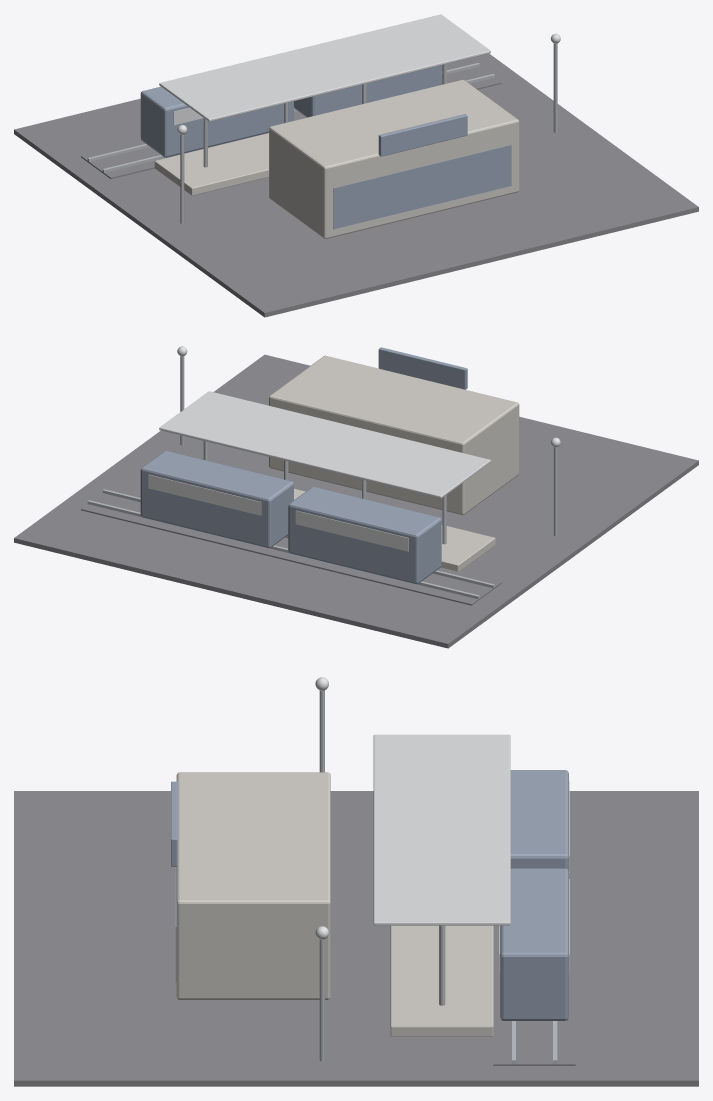
The model's file is transport.glb.
3 views of the same model, one above another, from view 1: azimuth 30°, elevation 25°; view 2: azimuth 150°, elevation 25°; view 3: azimuth 270°, elevation 25° (orthographic). The views are drawn at different scales.
Visible parts, largest first — view 1: Ground, Station, Canopy, StationGlass, Train0, Platform, Train1, Ballast, StationSign, Rail1; view 2: Ground, Station, Canopy, Train0, Train1, Ballast, StationSign, Platform, TrainWin1, TrainWin0, Rail1, Rail0; view 3: Ground, Station, Canopy, Platform, Train1, Train0, Ballast, LampPost1.
Boxes of the visible parts, x1=… form: Ground: x1=14, y1=53, x2=698, y2=317; Station: x1=269, y1=79, x2=519, y2=238; Canopy: x1=159, y1=14, x2=490, y2=121; StationGlass: x1=333, y1=145, x2=511, y2=229; Train0: x1=140, y1=86, x2=293, y2=157; Platform: x1=154, y1=133, x2=268, y2=195; Train1: x1=294, y1=65, x2=441, y2=117; Ballast: x1=81, y1=60, x2=501, y2=178; StationSign: x1=378, y1=114, x2=467, y2=156; Rail1: x1=87, y1=63, x2=479, y2=161; Ground: x1=14, y1=354, x2=698, y2=648; Station: x1=269, y1=355, x2=519, y2=514; Canopy: x1=159, y1=391, x2=490, y2=498; Train0: x1=288, y1=487, x2=441, y2=583; Train1: x1=140, y1=451, x2=293, y2=547; Ballast: x1=81, y1=487, x2=501, y2=605; StationSign: x1=378, y1=347, x2=467, y2=389; Platform: x1=294, y1=488, x2=495, y2=571; TrainWin1: x1=148, y1=474, x2=261, y2=515; TrainWin0: x1=295, y1=510, x2=408, y2=551; Rail1: x1=87, y1=500, x2=479, y2=599; Rail0: x1=102, y1=489, x2=494, y2=588; Ground: x1=14, y1=791, x2=698, y2=1086; Station: x1=176, y1=772, x2=330, y2=999; Canopy: x1=373, y1=734, x2=510, y2=925; Platform: x1=390, y1=925, x2=493, y2=1036; Train1: x1=500, y1=868, x2=568, y2=1020; Train0: x1=510, y1=770, x2=568, y2=871; Ballast: x1=493, y1=803, x2=575, y2=1065; LampPost1: x1=319, y1=939, x2=324, y2=1061.
Bounding box in the file's own units: 20 × 4.5 × 20.
